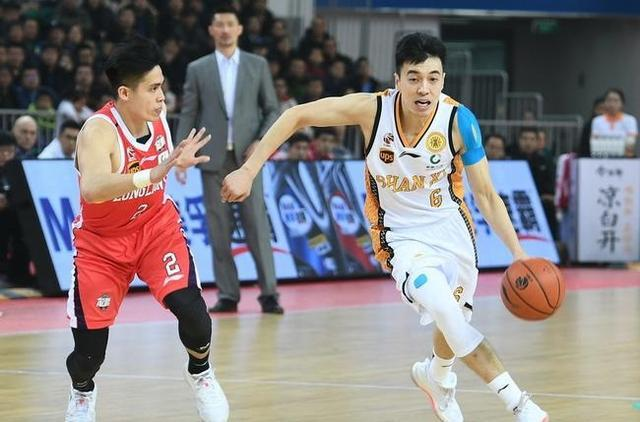ball: (499, 256, 567, 322)
